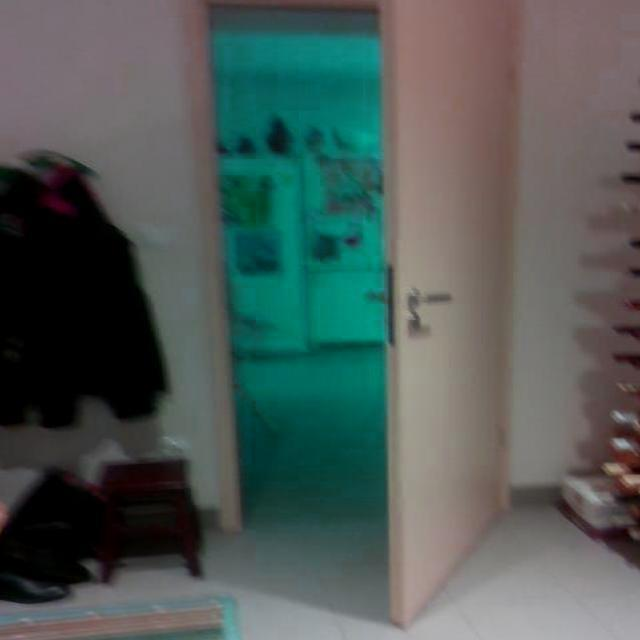door: (346, 0, 532, 640)
